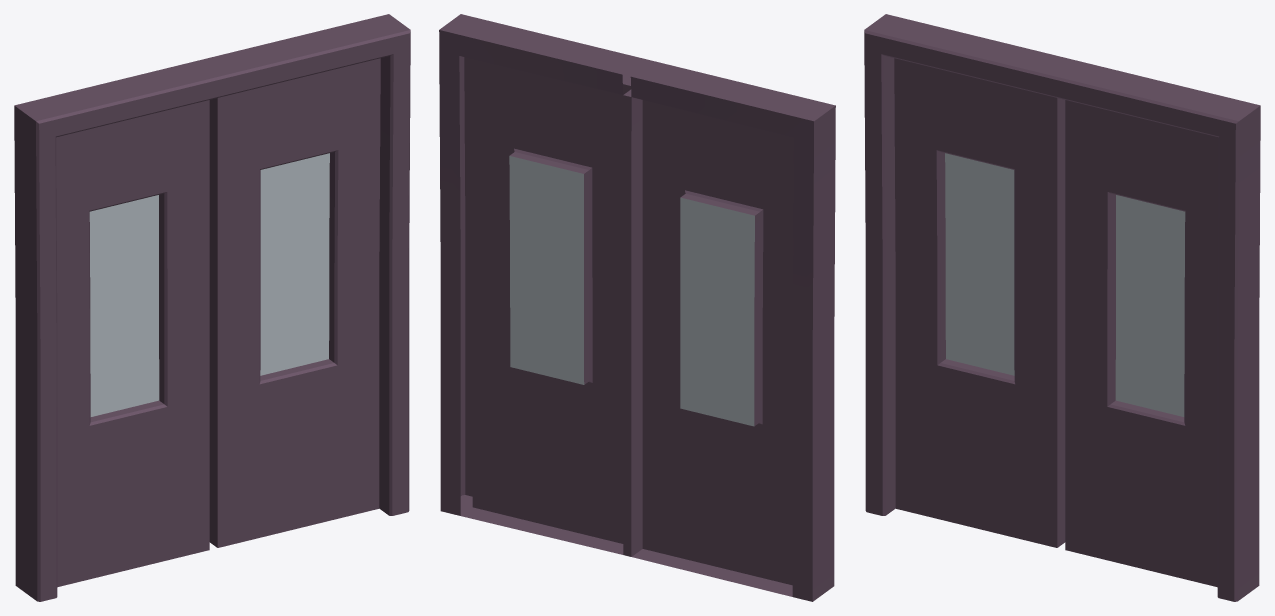
The model's file is fbx_oldbuilding_door_p.fbx.
3 renders of one model, left to right at view 1: azimuth 30°, elevation 25°; view 2: azimuth 150°, elevation 25°; view 3: azimuth 330°, elevation 25°, orthographic.
Visible parts, largest first — view 1: fbx_oldbuilding_door_p; view 2: fbx_oldbuilding_door_p; view 3: fbx_oldbuilding_door_p.
Part boxes in pixels (x1=…): fbx_oldbuilding_door_p: x1=14, y1=14, x2=410, y2=601; fbx_oldbuilding_door_p: x1=439, y1=14, x2=835, y2=601; fbx_oldbuilding_door_p: x1=864, y1=14, x2=1260, y2=601.
Size of the model in its own units: 1.19 by 1.46 by 0.1257.
2 materials, 1 textured.
